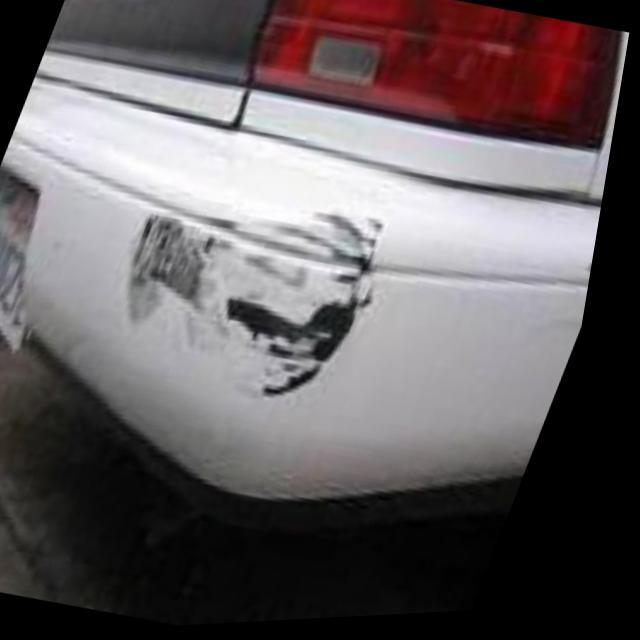crack: (125, 205, 402, 406)
